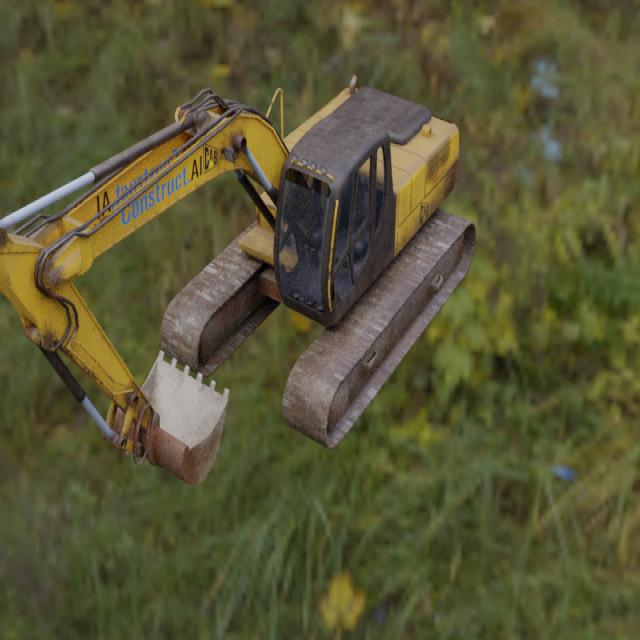excavator: (0, 73, 477, 487)
